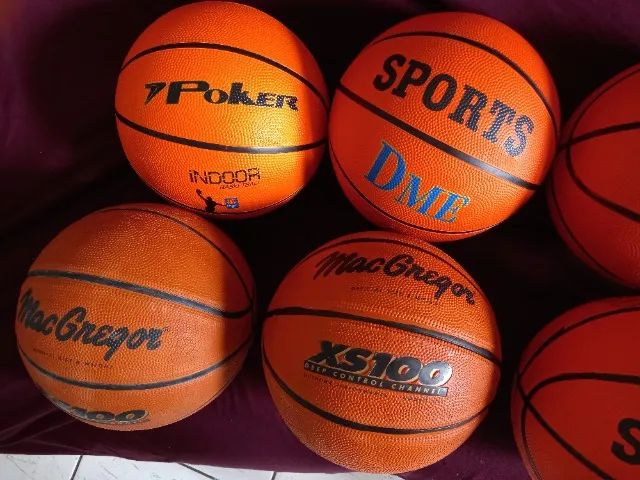Bola: (8, 4, 640, 474)
